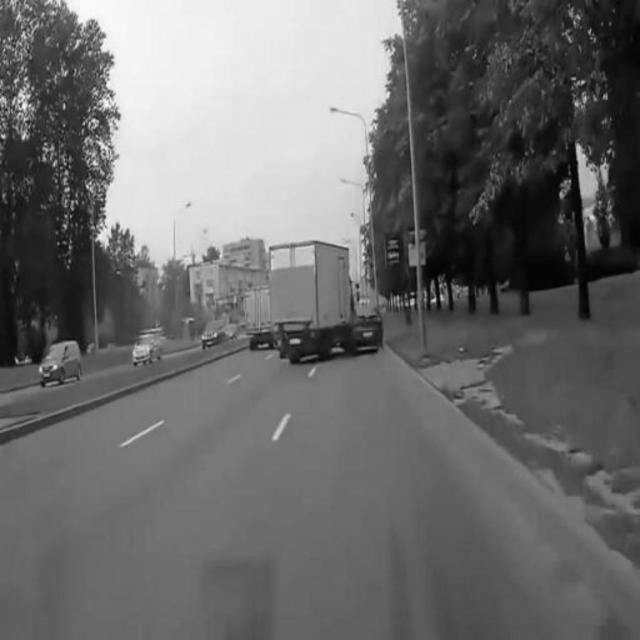accident: (268, 237, 386, 355)
vehicle: (42, 338, 87, 380)
